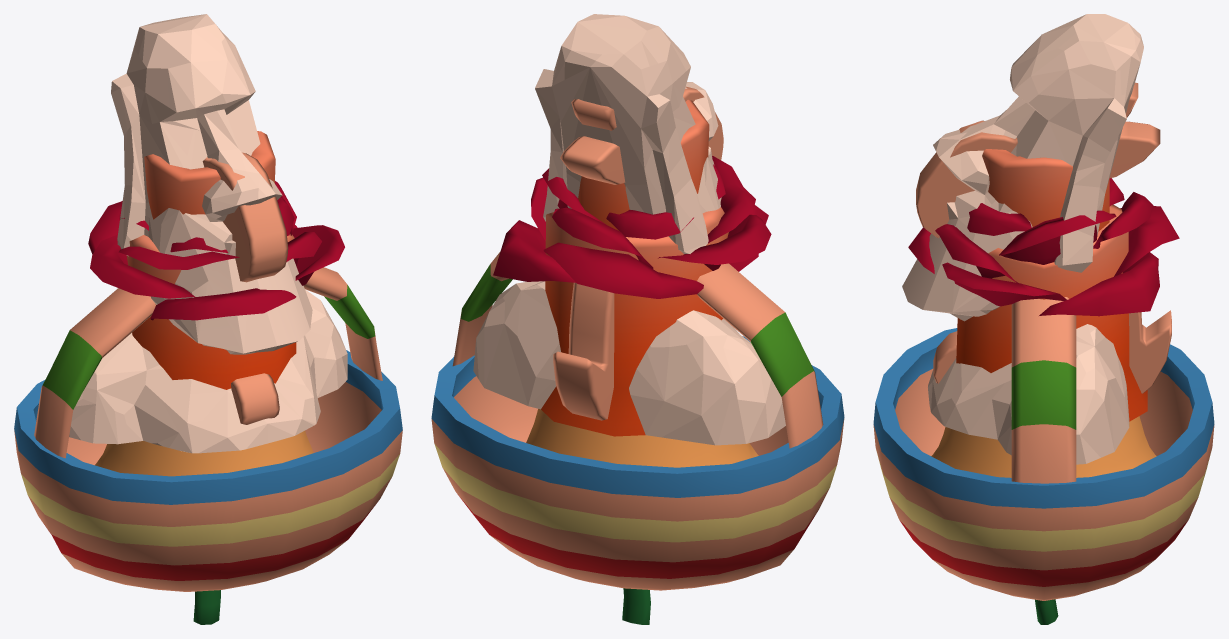
File: Dao_phuc_sinh.fbx
3 views of the same model, side by side, from view 1: azimuth 30°, elevation 25°; view 2: azimuth 150°, elevation 25°; view 3: azimuth 270°, elevation 25° (orthographic). The views are drawn at different scales.
Visible parts, largest first — view 1: Gio_trung, moai, Hoa_1, Tuong_tho, Nem_1, Chuong, nen_2; view 2: Gio_trung, moai, Hoa_1, Nem_1, Tuong_tho, Chuong, nen_2; view 3: Gio_trung, moai, Hoa_1, Nem_1, Tuong_tho, nen_2, Chuong.
Part boxes in pixels (x1,y1,x2,y2): Gio_trung: (14,267,402,591); moai: (69,14,347,453); Hoa_1: (88,181,344,624); Tuong_tho: (202,152,288,424); Nem_1: (127,234,296,389); Chuong: (95,430,313,476); nen_2: (144,131,275,219); Gio_trung: (431,251,844,590); moai: (473,14,785,445); Hoa_1: (493,156,771,624); Nem_1: (541,207,728,436); Tuong_tho: (553,86,723,420); Chuong: (526,409,758,467); nen_2: (578,99,709,230); Gio_trung: (873,297,1214,600); moai: (902,14,1143,464); Hoa_1: (908,178,1179,624); Nem_1: (956,204,1147,421); Tuong_tho: (916,82,1171,393); nen_2: (982,149,1109,231); Chuong: (931,416,1156,477).
Bounding box in the file's own units: 72.25 × 119 × 61.56.
